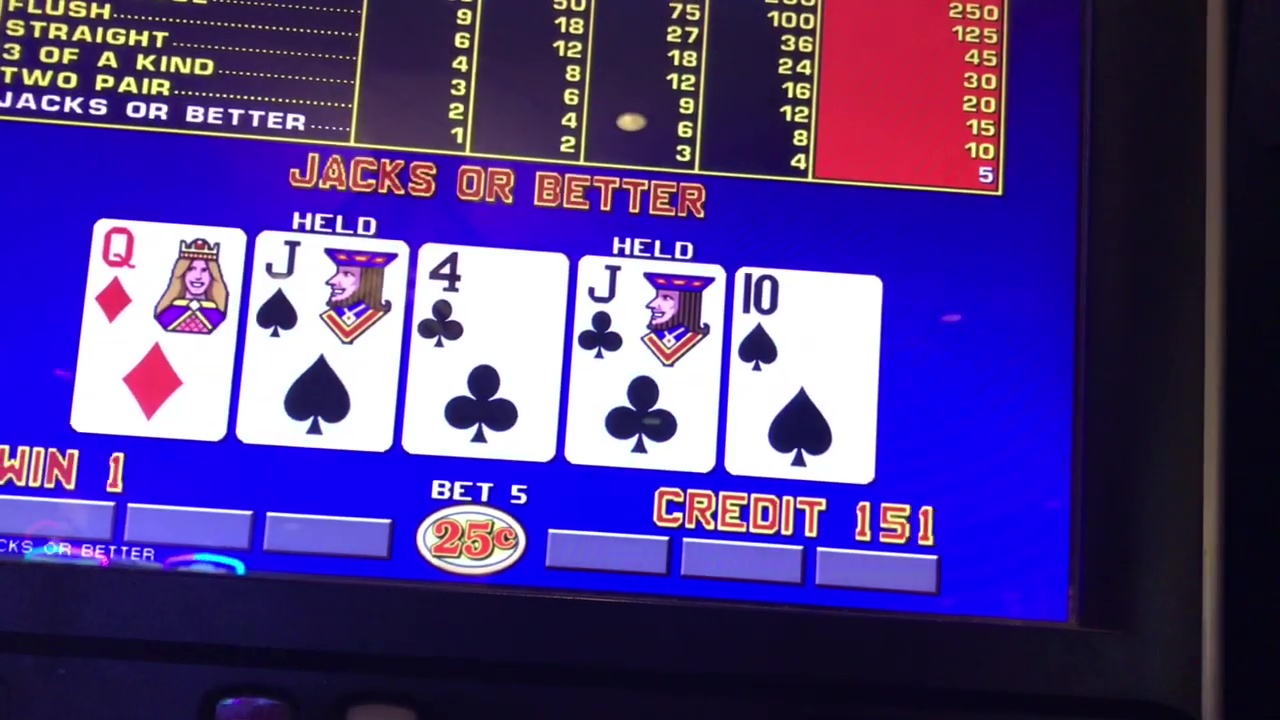C4: (413, 248, 561, 352)
CJ: (571, 266, 710, 364)
DQ: (88, 223, 233, 325)
SJ: (245, 236, 389, 341)
ST: (735, 271, 881, 366)
